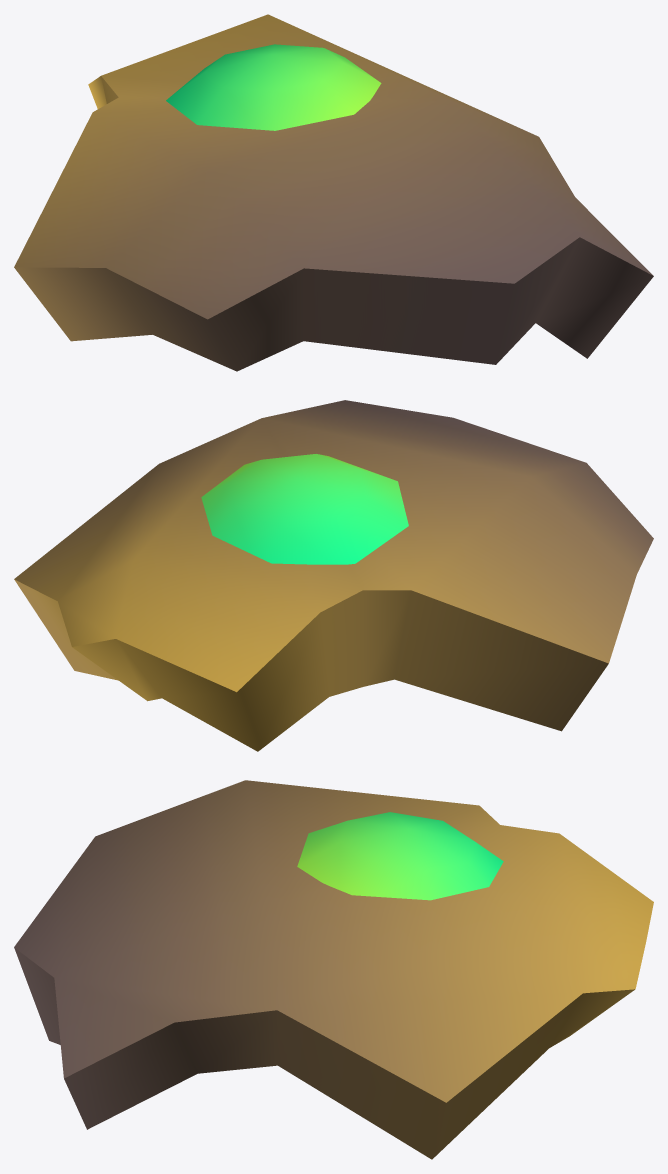
The model's file is Egg_Particle_Green_003.fbx.
The picture shows the model from 3 angles, top to bottom: view 1: azimuth 30°, elevation 25°; view 2: azimuth 150°, elevation 25°; view 3: azimuth 270°, elevation 25°; orthographic projection. The views are drawn at different scales.
Parts seen in each view (by area): view 1: Egg_Particle_Green_003; view 2: Egg_Particle_Green_003; view 3: Egg_Particle_Green_003.
Boxes of the visible parts, x1,y1,x2,y2 form: Egg_Particle_Green_003: [14, 14, 653, 371]; Egg_Particle_Green_003: [14, 400, 653, 751]; Egg_Particle_Green_003: [14, 780, 653, 1159].
Size of the model in its own units: 1.52 by 0.6162 by 1.55.
